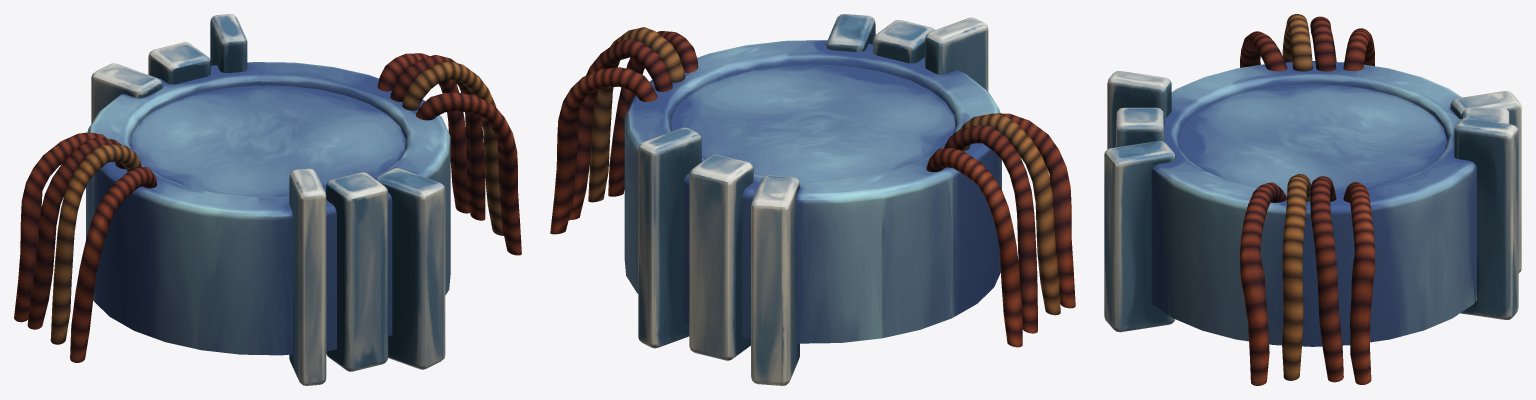
File: Base arm.fbx
The picture shows the model from 3 angles, left to right: view 1: azimuth 30°, elevation 25°; view 2: azimuth 150°, elevation 25°; view 3: azimuth 270°, elevation 25°; orthographic projection. The views are drawn at different scales.
Visible parts, largest first — view 1: polySurface577; view 2: polySurface577; view 3: polySurface577.
Part boxes in pixels (box(x1,y1,x2,y2)): polySurface577: box(14, 14, 521, 385); polySurface577: box(550, 14, 1075, 385); polySurface577: box(1104, 14, 1521, 385).
Size of the model in its own units: 10.6 by 4.61 by 8.65.
Materials: 1 (1 with a texture image).
